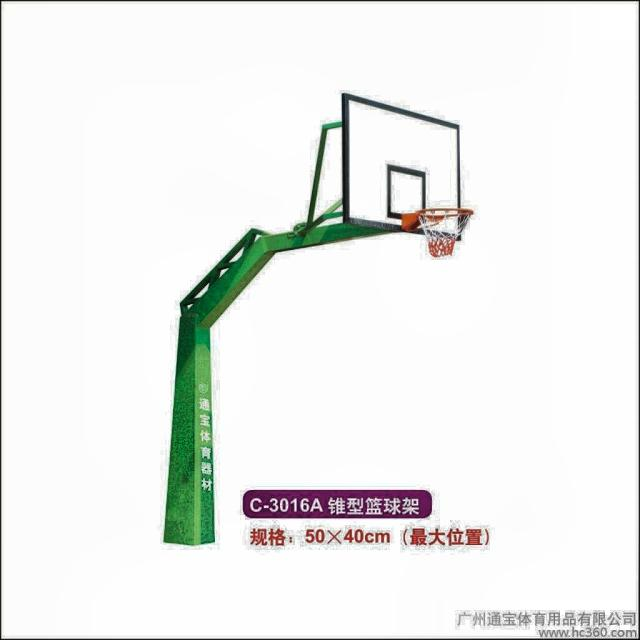rim: (419, 206, 473, 257)
